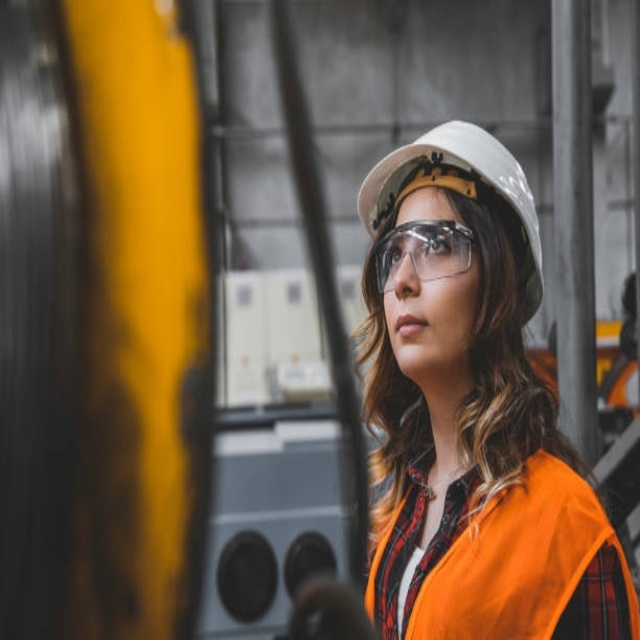Gafas: (372, 218, 475, 285)
Sin_mascara: (388, 306, 438, 362)
